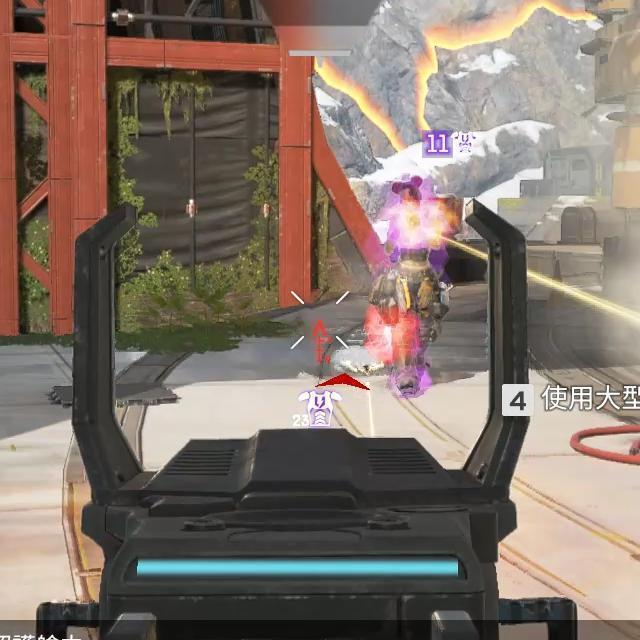avatar: (376, 176, 447, 397)
object: (380, 196, 461, 253), (363, 302, 419, 363)
